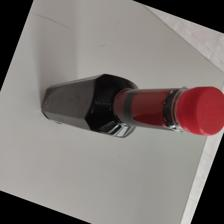Namngu: (43, 73, 224, 140)
